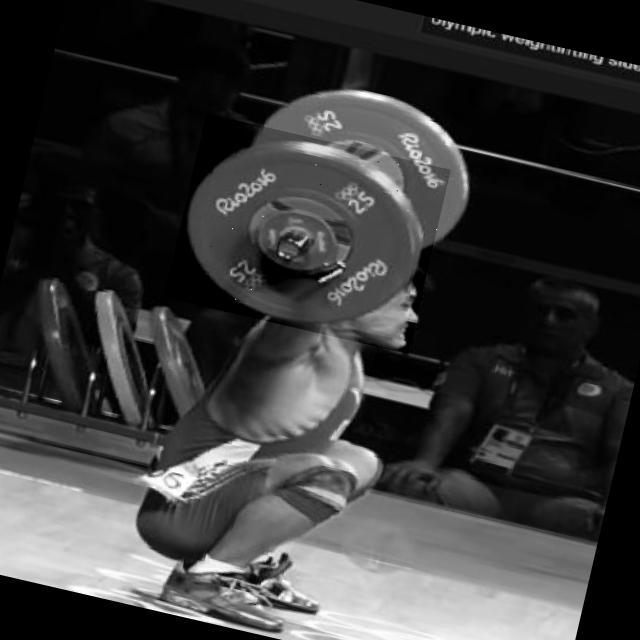barbell: (164, 114, 451, 355)
